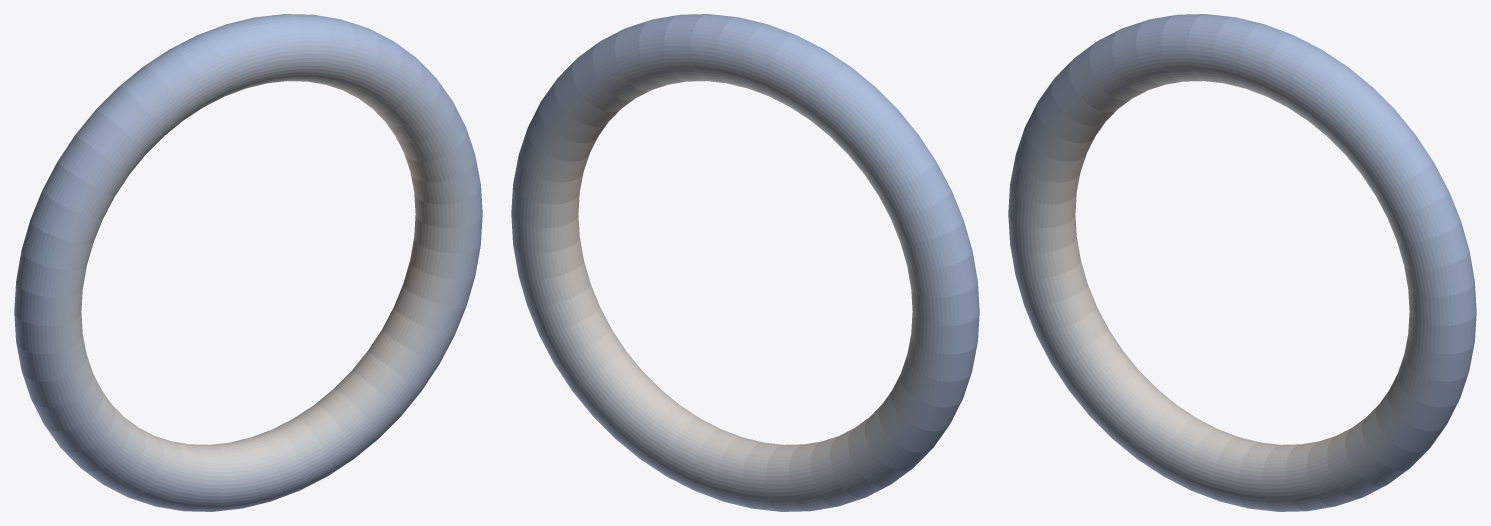
The picture shows the model from 3 angles, left to right: view 1: azimuth 30°, elevation 25°; view 2: azimuth 150°, elevation 25°; view 3: azimuth 330°, elevation 25°; orthographic projection.
Visible parts, largest first — view 1: world; view 2: world; view 3: world.
Boxes of the visible parts, bbox=[...] form: world: bbox=[14, 14, 482, 511]; world: bbox=[511, 14, 979, 511]; world: bbox=[1008, 14, 1476, 511].
Size of the model in its own units: 30.53 by 30.47 by 3.86.
